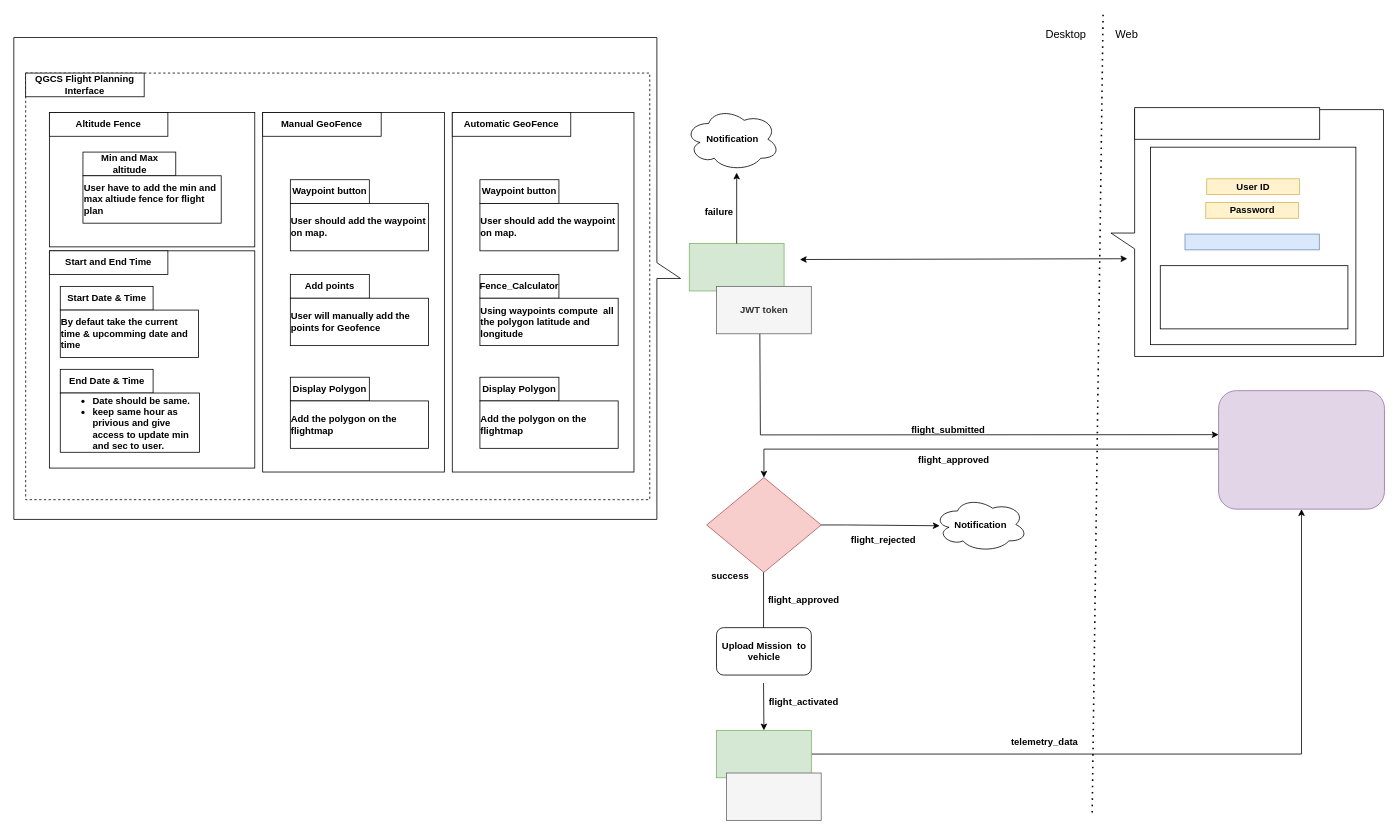
Image size: 1398x834. Some labels were removed from this diagram. Each missing label, with the box of its shape:
Authentication and Authorization: (1134, 107, 1320, 139)
Flight Authorization Status: (706, 477, 821, 572)
JWT: (726, 772, 821, 820)
Login: (1184, 233, 1319, 250)
Login for flight planning: (688, 243, 784, 291)
Oauth2.0 client credential grant flow: (1159, 265, 1348, 329)
OpenUTM / Any UTM System: (1218, 390, 1384, 509)
Submit telemetry via UTM Adapter: (716, 730, 811, 778)
